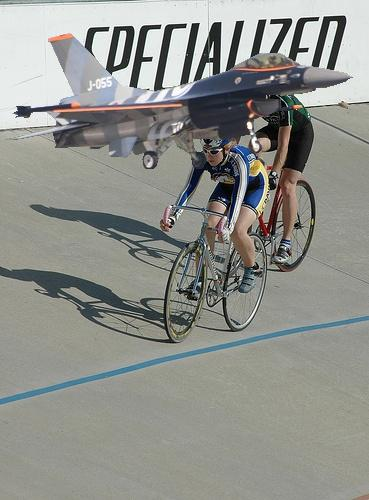tampered: (6, 34, 353, 169)
